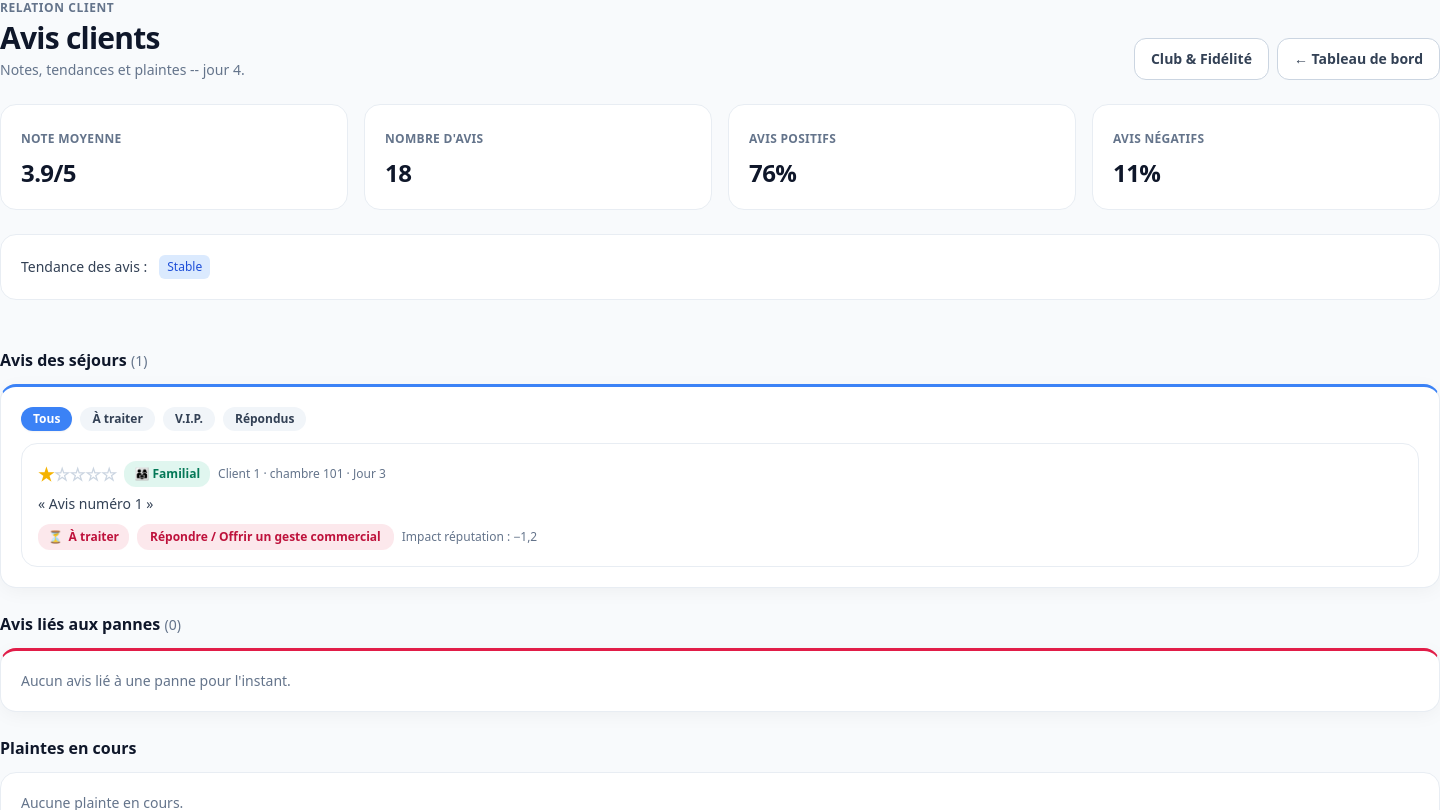
Clients / Avis: answering › opens the response modal on the review
Click the button with test id "respond-stay:1".
click(265, 537)  # box [137,524,394,550]
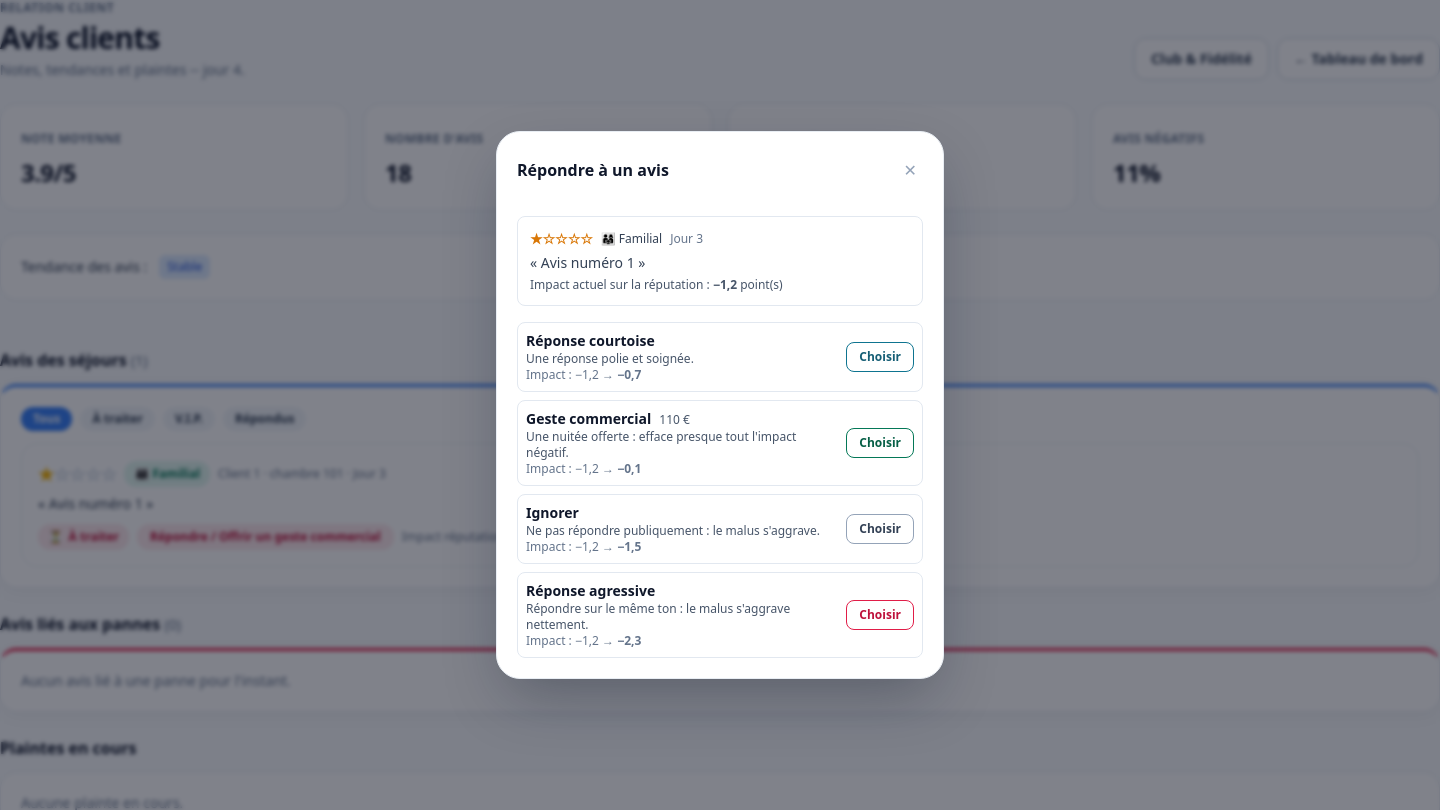
expect the dialog "Répondre à un avis" is shown: met
expect the element with test id "response-review" shows "Avis numéro 1": met, box [541,253,635,272]
